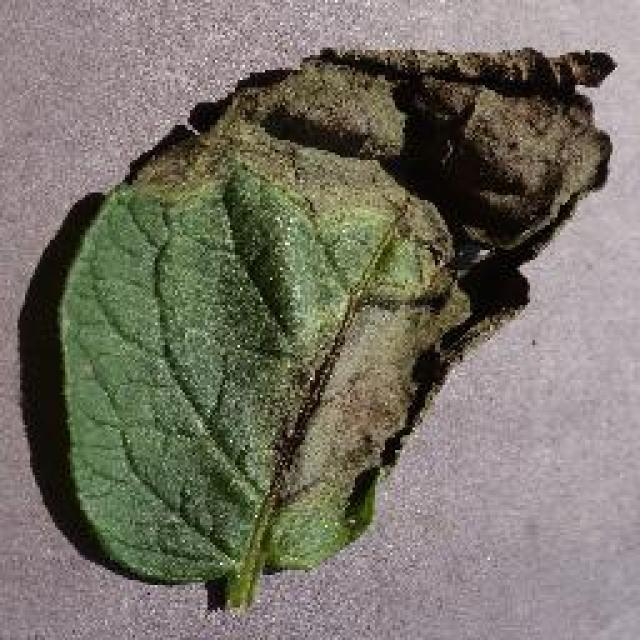late_blight: (48, 38, 620, 612)
